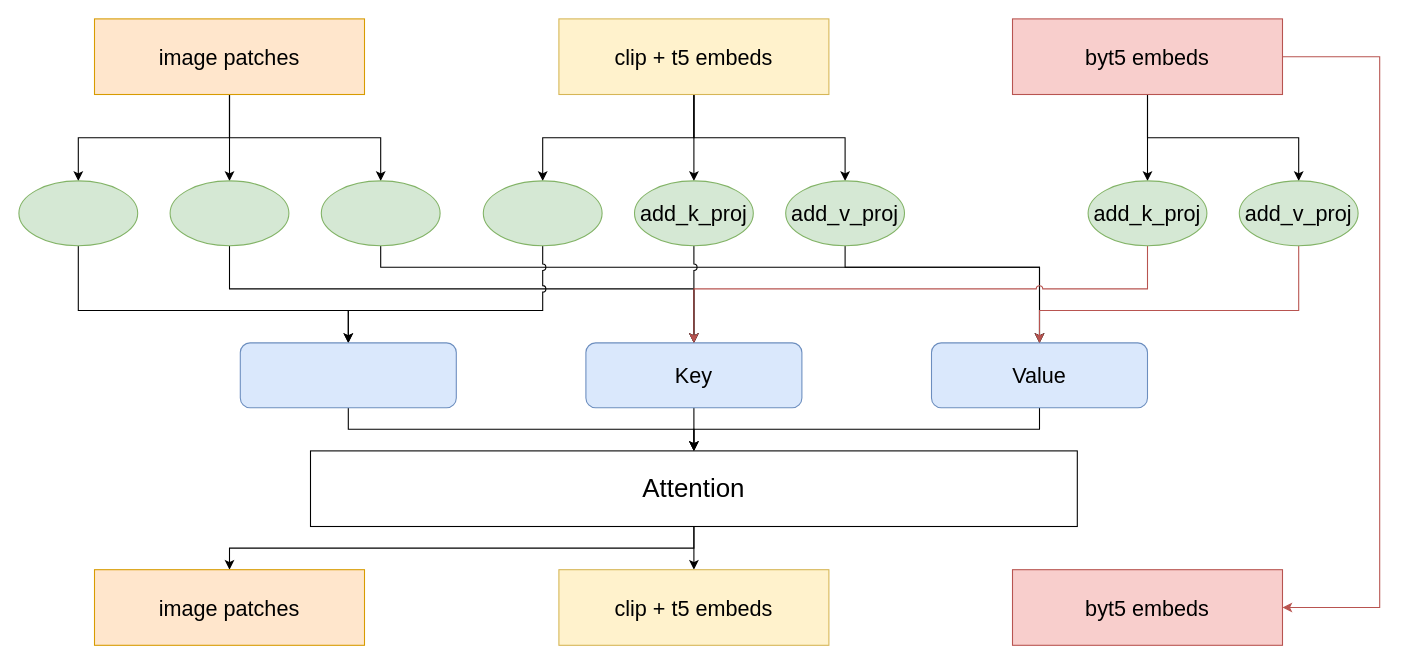
Image size: 1407x664. Some labels were removed from this diagram. Here are the shapes that lost their labels. From the top down, the centre of each, then its label:
(x=78, y=213): to_q
(x=229, y=213): to_k
(x=380, y=213): to_v
(x=542, y=213): add_q_proj
(x=347, y=375): Query
